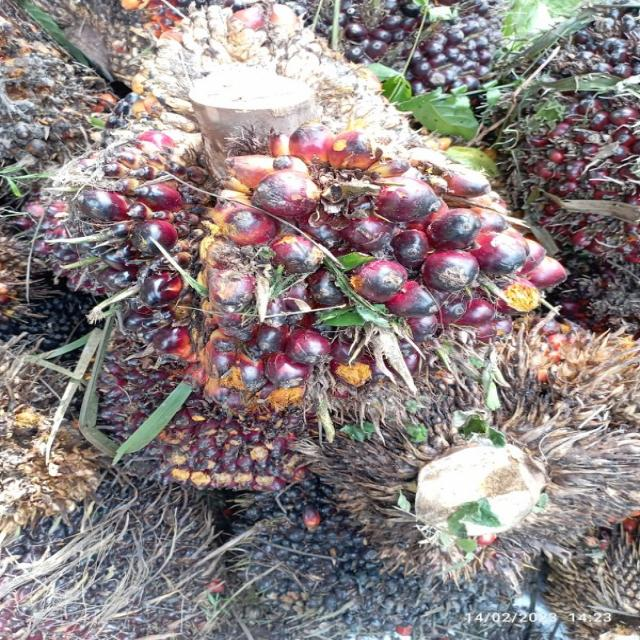fraksi 1: (34, 22, 555, 524)
